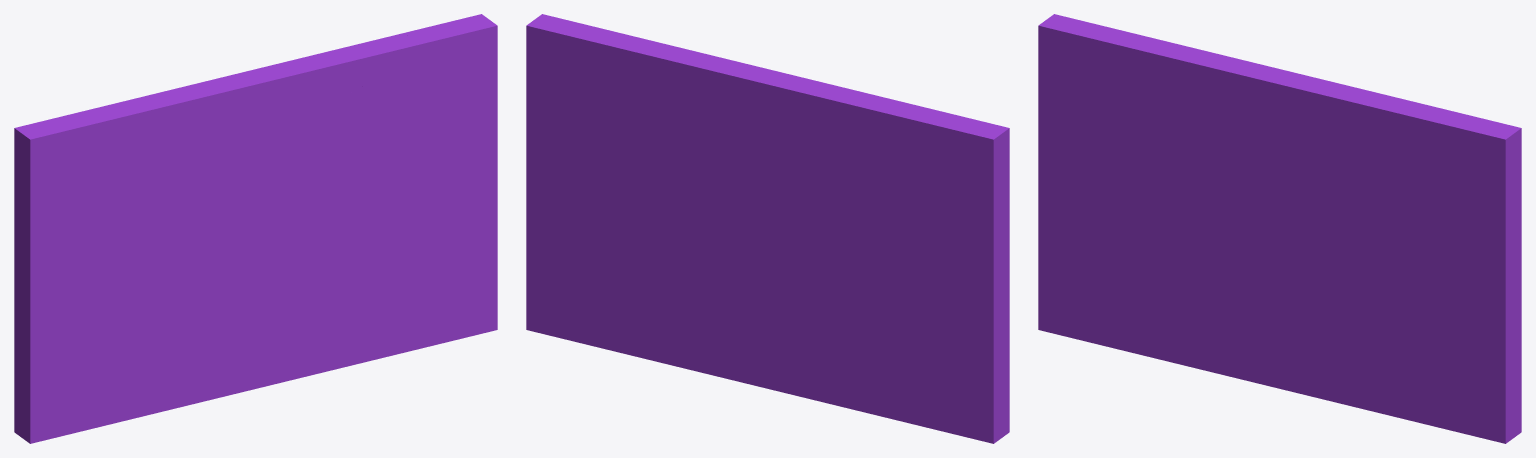
File: Barrier_108_chunks.fbx
The picture shows the model from 3 angles, left to right: view 1: azimuth 30°, elevation 25°; view 2: azimuth 150°, elevation 25°; view 3: azimuth 330°, elevation 25°; orthographic projection.
Parts seen in each view (by area): view 1: Barrier_108_0, Barrier_108_1, Barrier_108_9, Barrier_108_3, Barrier_108_4, Barrier_108_8, Barrier_108_7, Barrier_108_5, Barrier_108_6; view 2: Barrier_108_0, Barrier_108_1, Barrier_108_6, Barrier_108_8, Barrier_108_3, Barrier_108_5, Barrier_108_2, Barrier_108_7, Barrier_108_4, Barrier_108_9; view 3: Barrier_108_1, Barrier_108_0, Barrier_108_9, Barrier_108_3, Barrier_108_4, Barrier_108_8, Barrier_108_7, Barrier_108_5, Barrier_108_6.
Part boxes in pixels (x1,y1,x2,y2): Barrier_108_0: [14, 109, 264, 443]; Barrier_108_1: [263, 14, 497, 356]; Barrier_108_9: [179, 56, 372, 164]; Barrier_108_3: [172, 312, 388, 409]; Barrier_108_4: [130, 260, 267, 419]; Barrier_108_8: [90, 85, 257, 198]; Barrier_108_7: [247, 116, 339, 213]; Barrier_108_5: [259, 254, 345, 321]; Barrier_108_6: [257, 31, 412, 116]; Barrier_108_0: [780, 100, 1009, 443]; Barrier_108_1: [526, 14, 740, 347]; Barrier_108_6: [595, 40, 779, 167]; Barrier_108_8: [758, 91, 917, 237]; Barrier_108_3: [598, 318, 836, 405]; Barrier_108_5: [613, 230, 779, 334]; Barrier_108_2: [750, 274, 919, 425]; Barrier_108_7: [669, 138, 780, 239]; Barrier_108_4: [774, 240, 933, 429]; Barrier_108_9: [668, 44, 859, 126]; Barrier_108_1: [1271, 111, 1521, 443]; Barrier_108_0: [1038, 14, 1272, 353]; Barrier_108_9: [1187, 57, 1380, 161]; Barrier_108_3: [1181, 314, 1396, 417]; Barrier_108_4: [1138, 258, 1275, 364]; Barrier_108_8: [1130, 32, 1265, 189]; Barrier_108_7: [1255, 152, 1347, 213]; Barrier_108_5: [1267, 254, 1353, 361]; Barrier_108_6: [1297, 73, 1451, 152].
Bounding box in the file's own units: 462 × 288 × 27.2.
